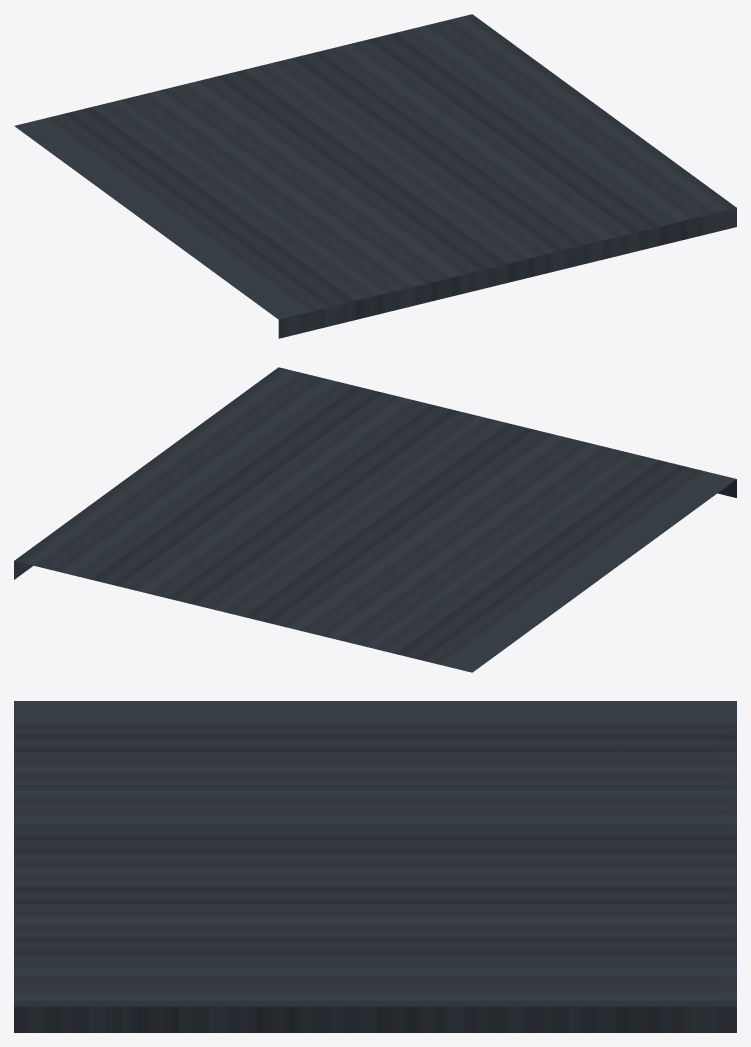
The model's file is SM_Bld_House_Roof_Flat_Corner_01.fbx.
The picture shows the model from 3 angles, top to bottom: view 1: azimuth 30°, elevation 25°; view 2: azimuth 150°, elevation 25°; view 3: azimuth 270°, elevation 25°; orthographic projection. The views are drawn at different scales.
Parts seen in each view (by area): view 1: SM_Bld_House_Roof_Flat_Corner_01; view 2: SM_Bld_House_Roof_Flat_Corner_01; view 3: SM_Bld_House_Roof_Flat_Corner_01.
Boxes of the visible parts, left/top/right/bottom form: SM_Bld_House_Roof_Flat_Corner_01: left=14, top=14, right=736, bottom=338; SM_Bld_House_Roof_Flat_Corner_01: left=14, top=367, right=736, bottom=672; SM_Bld_House_Roof_Flat_Corner_01: left=14, top=701, right=736, bottom=1032.
Size of the model in its own units: 250 by 10 by 250.
